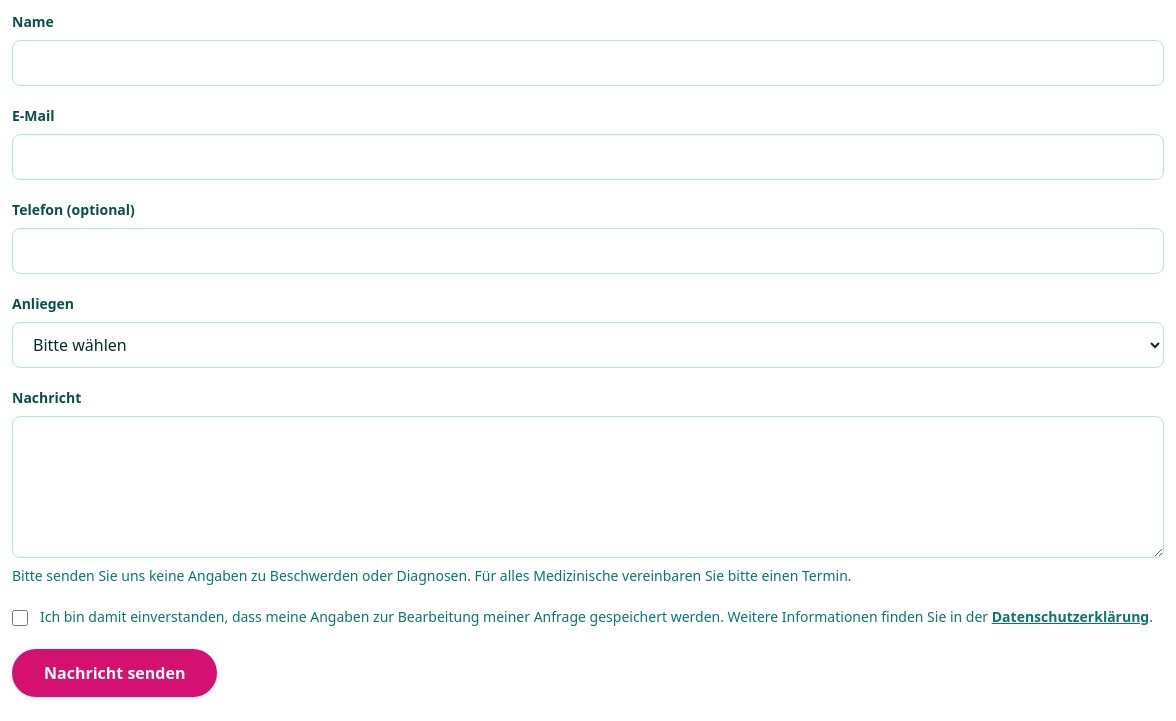
Scenario: ContactForm › blocks submission and shows per-field errors when required fields are empty
Click the button "Nachricht senden": click(115, 673) [12,649,217,697]
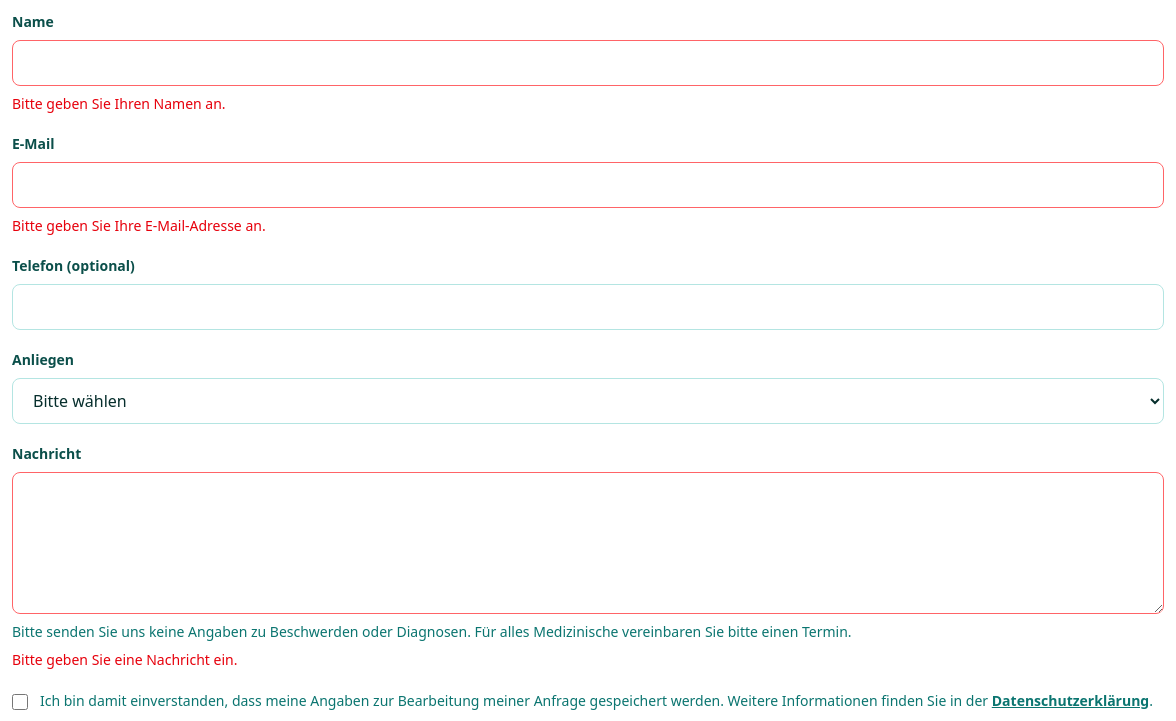
Check: the text "Bitte geben Sie Ihren Namen an." is shown, box [12,94,226,113]
Check: the text "Bitte geben Sie Ihre E-Mail-Adresse an." is shown, box [12,216,266,235]
Check: the text "Bitte geben Sie eine Nachricht ein." is shown, box [12,650,237,669]
